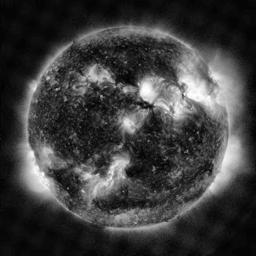solar flares: (179, 67, 209, 103), (79, 165, 115, 192), (160, 96, 184, 120), (116, 109, 136, 131), (142, 83, 163, 103), (38, 146, 56, 165), (92, 67, 109, 84)
sunspots: (121, 41, 168, 65), (137, 130, 161, 176), (175, 128, 202, 153), (85, 120, 108, 147), (102, 194, 155, 205), (59, 167, 77, 188), (87, 98, 106, 115), (120, 61, 134, 83), (84, 45, 100, 62), (197, 162, 212, 173), (58, 108, 69, 123)
